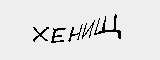Е: (51, 26, 65, 46)
И: (79, 18, 95, 41)
Н: (66, 22, 83, 44)
Х: (32, 26, 48, 44)
Щ: (93, 13, 120, 41)
